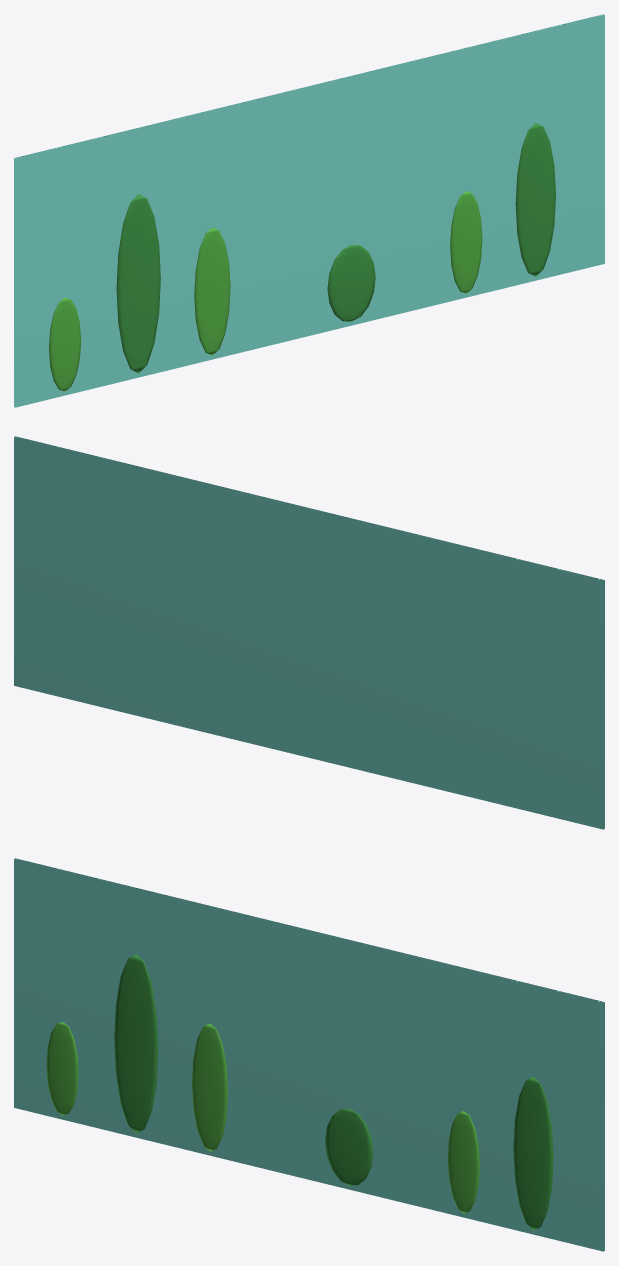
Rendered from TankBackdrop.fbx.
The picture shows the model from 3 angles, top to bottom: view 1: azimuth 30°, elevation 25°; view 2: azimuth 150°, elevation 25°; view 3: azimuth 330°, elevation 25°; orthographic projection.
Visible parts, largest first — view 1: TankBackdrop mesh; view 2: TankBackdrop mesh; view 3: TankBackdrop mesh.
Part boxes in pixels (x1,y1,x2,y2): TankBackdrop mesh: (14,14,604,407); TankBackdrop mesh: (14,436,604,829); TankBackdrop mesh: (14,858,604,1251).
Bounding box in the file's own units: 1.44 × 0.58 × 0.012.
